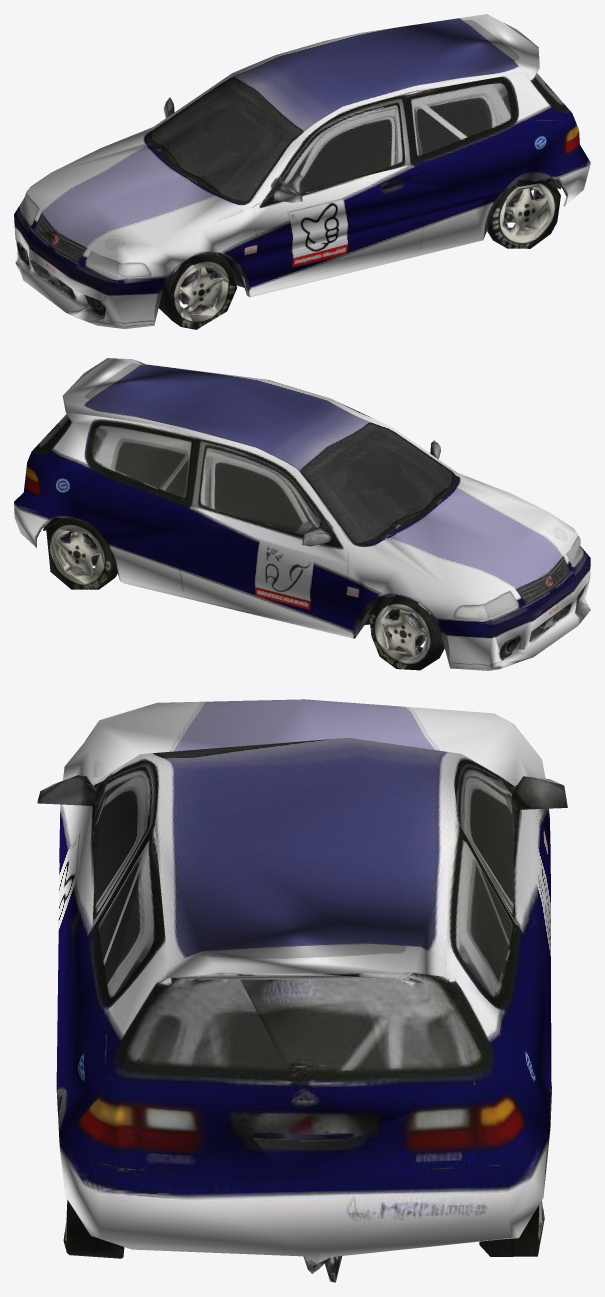
File: car_02.glb
The picture shows the model from 3 angles, top to bottom: view 1: azimuth 30°, elevation 25°; view 2: azimuth 150°, elevation 25°; view 3: azimuth 270°, elevation 25°; orthographic projection. The views are drawn at different scales.
Parts seen in each view (by area): view 1: Mesh1.0; view 2: Mesh1.0; view 3: Mesh1.0.
Boxes of the visible parts, x1,y1,x2,y2 form: Mesh1.0: (14, 14, 590, 329); Mesh1.0: (14, 358, 590, 670); Mesh1.0: (37, 699, 567, 1282).
Size of the model in its own units: 4.58 by 1.48 by 2.09.
1 material, 1 textured.
